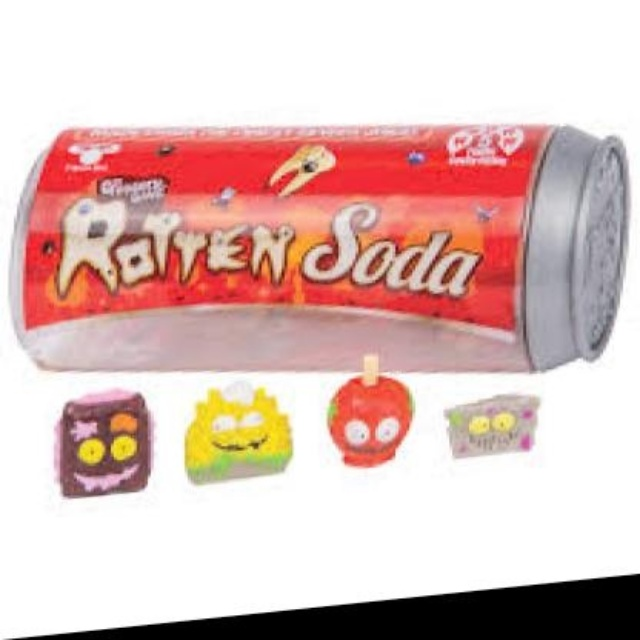trash: (11, 125, 626, 369)
